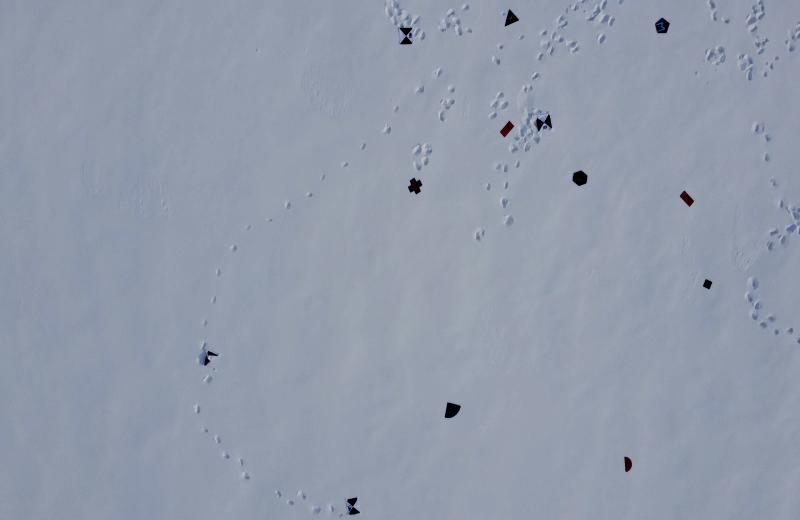Cross: (407, 177, 422, 196)
Hexagon: (572, 168, 589, 188)
Pentagon: (654, 16, 670, 36)
Quarter Circle: (442, 399, 462, 421)
Rectangle: (679, 187, 695, 210), (498, 121, 515, 138)
Semi Circle: (621, 455, 634, 473)
Square: (702, 278, 713, 291)
Triangle: (504, 10, 522, 28)
